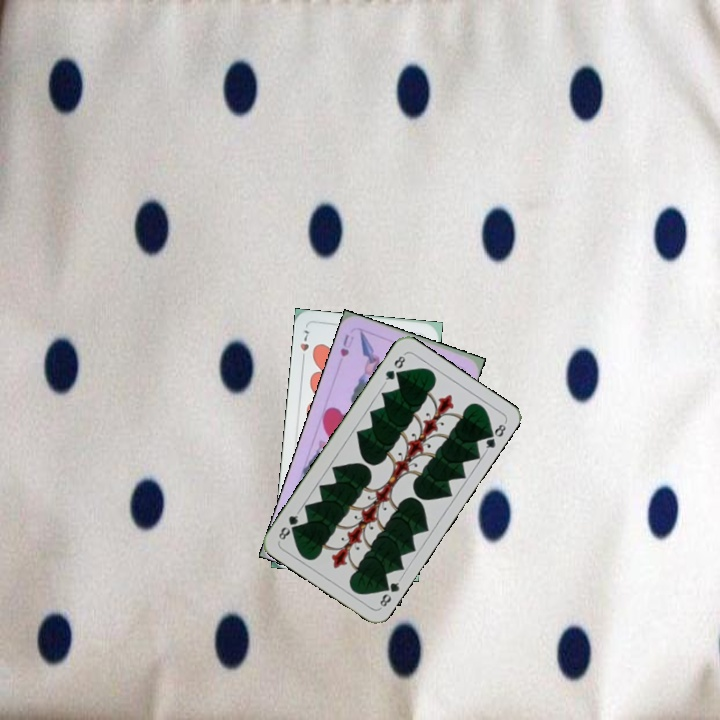G8: (381, 350, 409, 386), (376, 575, 404, 611)
H7: (296, 326, 311, 365)
HU: (336, 330, 357, 359)
